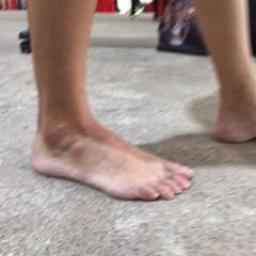Lateral View -Right Foot-: (24, 80, 198, 218)
